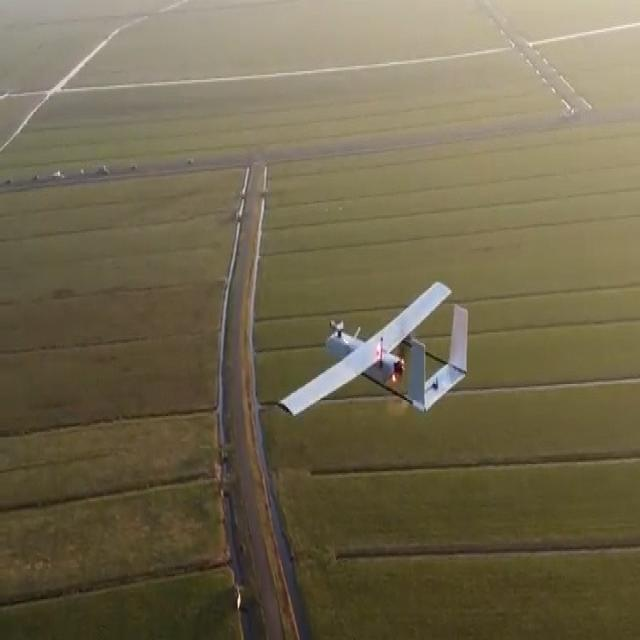drones: (282, 278, 473, 438)
